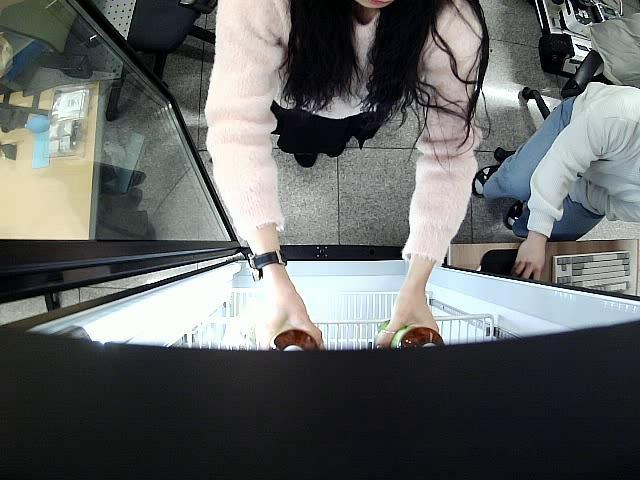19_17cha: (372, 320, 443, 354), (270, 324, 322, 356)
